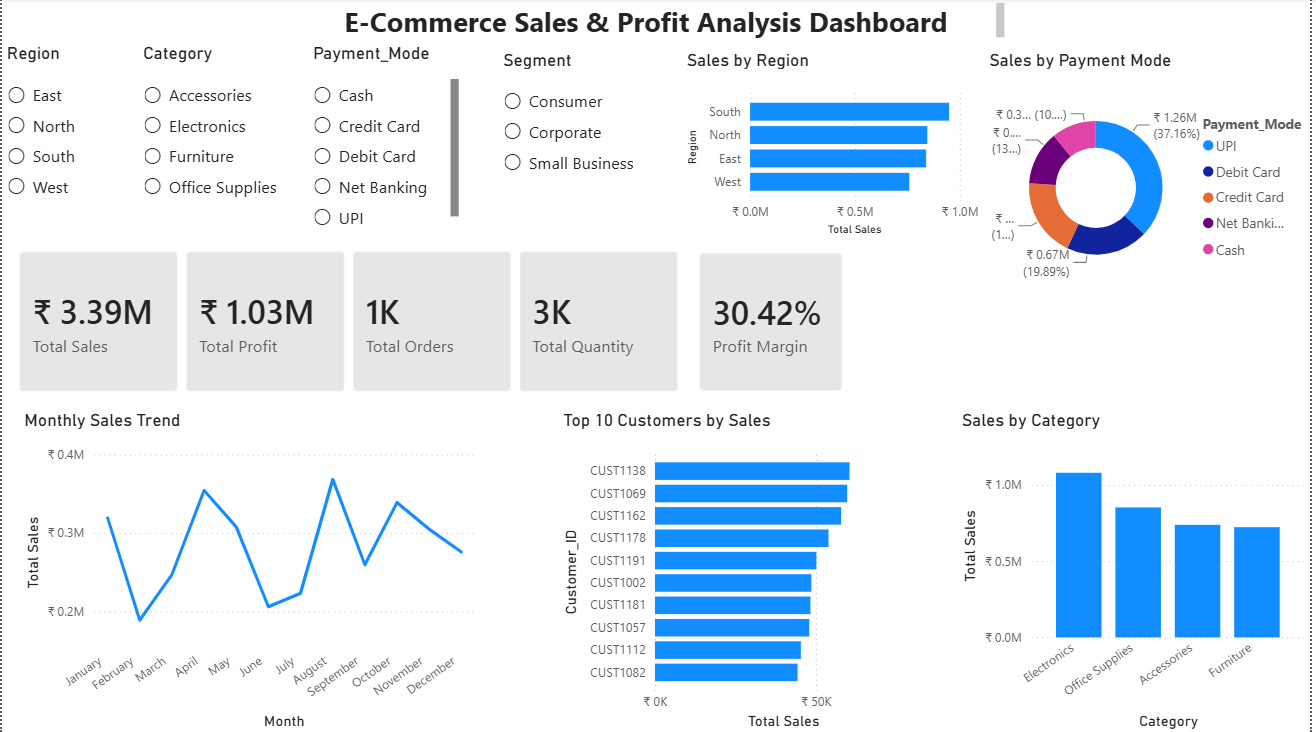

The dashboard page shown, as its layout file describes it:
{"tool":"powerbi","page":{"name":"Page 1","canvas":[1280,720],"ordinal":0},"visuals":[{"type":"cardVisual","fields":{"Data":["Raw_Data.Total Sales","Raw_Data.Total Profit","Raw_Data.Total Orders","Raw_Data.Total Quantity"]},"box":[0,231.1,681.1,171.2],"z":0},{"type":"cardVisual","fields":{"Data":["Raw_Data.Profit Margin"]},"box":[665.2,232.3,174.9,170],"z":1000},{"type":"lineChart","title":"Monthly Sales Trend","fields":{"Category":["Raw_Data.Order_Date.Variation.Date Hierarchy.Month"],"Y":["Raw_Data.Total Sales"]},"box":[17.1,402.3,450,317.9],"z":2000},{"type":"clusteredColumnChart","title":" Sales by Category","fields":{"Category":["Raw_Data.Category"],"Y":["Raw_Data.Total Sales"]},"box":[934.2,402.3,346.1,317.9],"z":3000},{"type":"clusteredBarChart","title":"Sales by Region","fields":{"Category":["Raw_Data.Region"],"Y":["Raw_Data.Total Sales"]},"box":[665.2,50.1,295.9,187.1],"z":4000},{"type":"clusteredBarChart","title":"Top 10 Customers by Sales","fields":{"Category":["Raw_Data.Customer_ID"],"Y":["Raw_Data.Total Sales"]},"box":[544.2,402.3,366.8,317.9],"z":5000},{"type":"donutChart","title":"Sales by Payment Mode","fields":{"Category":["Raw_Data.Payment_Mode"],"Y":["Raw_Data.Total Sales"]},"box":[961.1,50.1,319.2,240.9],"z":5001},{"type":"listSlicer","fields":{"Values":["Raw_Data.Region"]},"box":[0,44,106.4,199.3],"z":5002},{"type":"listSlicer","fields":{"Values":["Raw_Data.Category"]},"box":[133.3,44,155.3,188.3],"z":5003},{"type":"listSlicer","fields":{"Values":["Raw_Data.Segment"]},"box":[485.5,50.1,154.1,187.1],"z":5004},{"type":"listSlicer","fields":{"Values":["Raw_Data.Payment_Mode"]},"box":[299.6,44,152.9,187.1],"z":5005},{"type":"textbox","box":[330.2,0,655.4,44],"z":5006}]}

Visuals, with their boxes in screenshot pixels (x1, y1, x2, y2), scaled from the page's 1280x720 canvas onto the 1316x732 screenshot:
cardVisual - Raw_Data.Total Sales x Raw_Data.Total Profit: {"left": 0, "top": 235, "right": 700, "bottom": 409}
cardVisual - Raw_Data.Profit Margin: {"left": 684, "top": 236, "right": 864, "bottom": 409}
"Monthly Sales Trend" lineChart: {"left": 18, "top": 409, "right": 480, "bottom": 731}
" Sales by Category" clusteredColumnChart: {"left": 960, "top": 409, "right": 1315, "bottom": 731}
"Sales by Region" clusteredBarChart: {"left": 684, "top": 51, "right": 988, "bottom": 241}
"Top 10 Customers by Sales" clusteredBarChart: {"left": 560, "top": 409, "right": 937, "bottom": 731}
"Sales by Payment Mode" donutChart: {"left": 988, "top": 51, "right": 1315, "bottom": 296}
listSlicer - Raw_Data.Region: {"left": 0, "top": 45, "right": 109, "bottom": 247}
listSlicer - Raw_Data.Category: {"left": 137, "top": 45, "right": 297, "bottom": 236}
listSlicer - Raw_Data.Segment: {"left": 499, "top": 51, "right": 658, "bottom": 241}
listSlicer - Raw_Data.Payment_Mode: {"left": 308, "top": 45, "right": 465, "bottom": 235}
textbox: {"left": 339, "top": 0, "right": 1013, "bottom": 45}
